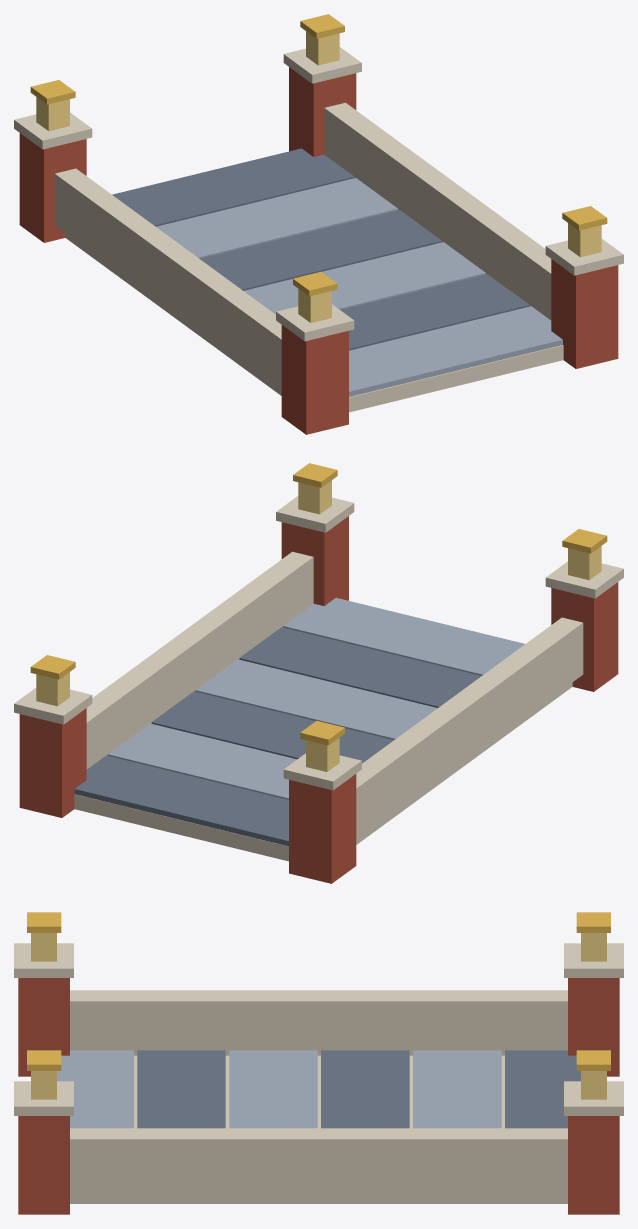
Rendered from bld_arch_bridge.glb.
3 renders of one model, top to bottom at view 1: azimuth 30°, elevation 25°; view 2: azimuth 150°, elevation 25°; view 3: azimuth 270°, elevation 25°, orthographic. The views are drawn at different scales.
Visible parts, largest first — view 1: bld_arch_bridge; view 2: bld_arch_bridge; view 3: bld_arch_bridge.
Boxes of the visible parts, left/top/right/bottom form: bld_arch_bridge: left=14, top=14, right=623, bottom=434; bld_arch_bridge: left=14, top=463, right=623, bottom=883; bld_arch_bridge: left=14, top=912, right=623, bottom=1214.
Size of the model in its own units: 4.5 by 1.88 by 7.1.
1 material, 1 textured.
